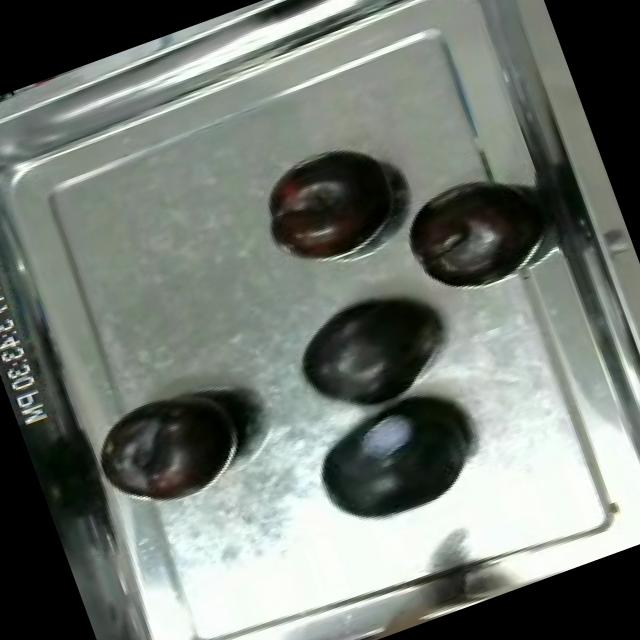Fruit: (294, 378, 496, 550), (277, 274, 461, 434), (83, 368, 264, 524), (246, 134, 409, 278), (391, 166, 544, 305)
